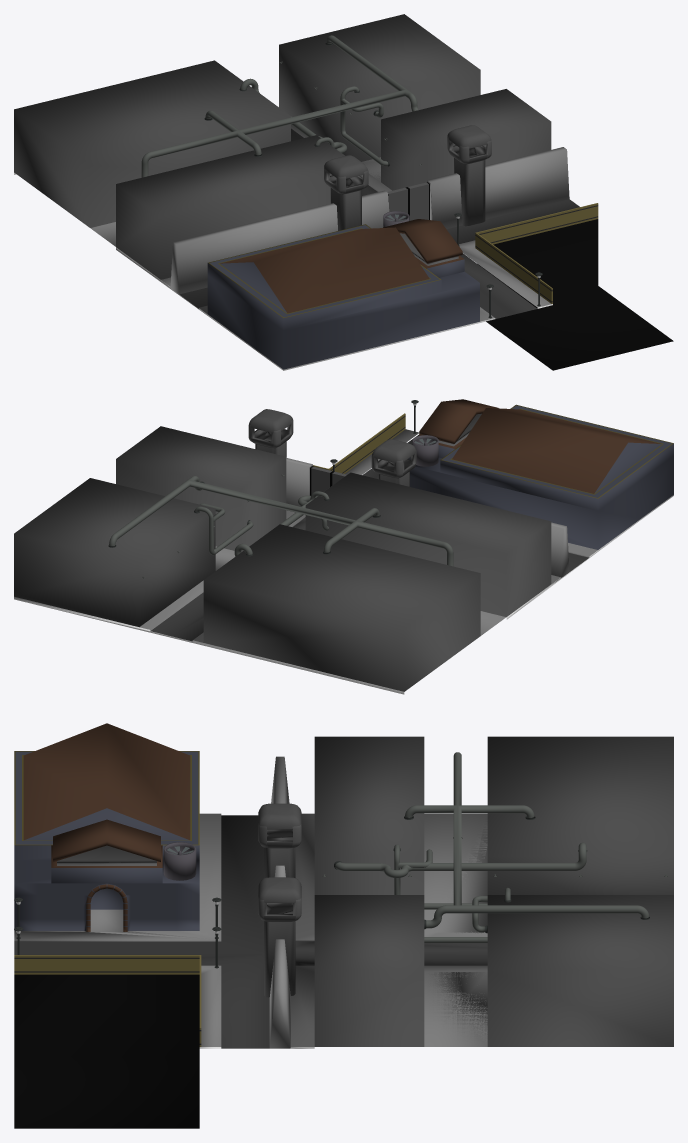
File: Cena2_Poste_Holofote.2.fbx
3 renders of one model, top to bottom at view 1: azimuth 30°, elevation 25°; view 2: azimuth 150°, elevation 25°; view 3: azimuth 270°, elevation 25°, orthographic. The views are drawn at different scales.
Visible parts, largest first — view 1: Cube, Cube.006, Cube.001, Cube.002, Cano.T, Cube.004, Cube.005, Cylinder.002, PortaD; view 2: Cube, Cube.006, Cano.T, Cube.002, Cube.001, Cube.005, Cylinder.002, Turbina, PortaD; view 3: Cube, Cube.006, Cube.002, Cano.T, Cube.005, Cube.001, Cylinder.004, Turbina, Cylinder.002, Cylinder.001.
Part boxes in pixels (box(x1,y1,x2,y2)): Cube: box(14, 14, 673, 370); Cube.006: box(199, 219, 495, 370); Cube.001: box(170, 147, 569, 294); Cube.002: box(324, 125, 491, 230); Cano.T: box(141, 35, 418, 177); Cube.004: box(475, 203, 598, 248); Cube.005: box(476, 233, 552, 303); Cylinder.002: box(340, 86, 389, 166); PortaD: box(407, 182, 429, 220); Cube: box(14, 426, 630, 694); Cube.006: box(408, 399, 673, 557); Cano.T: box(108, 476, 453, 566); Cube.002: box(248, 409, 416, 486); Cube.001: box(286, 458, 569, 577); Cube.005: box(329, 413, 405, 473); Cylinder.002: box(194, 503, 253, 555); Turbina: box(412, 435, 438, 466); PortaD: box(310, 466, 333, 495); Cube: box(14, 736, 673, 1128); Cube.006: box(14, 723, 221, 941); Cube.002: box(258, 803, 301, 997); Cano.T: box(404, 752, 649, 929); Cube.005: box(14, 955, 199, 974); Cube.001: box(269, 756, 290, 1048); Cylinder.004: box(334, 842, 587, 877); Turbina: box(163, 842, 196, 880); Cylinder.002: box(424, 887, 511, 942); Cylinder.001: box(393, 844, 487, 909).
Bounding box in the file's own units: 52941 × 19917 × 63321.
